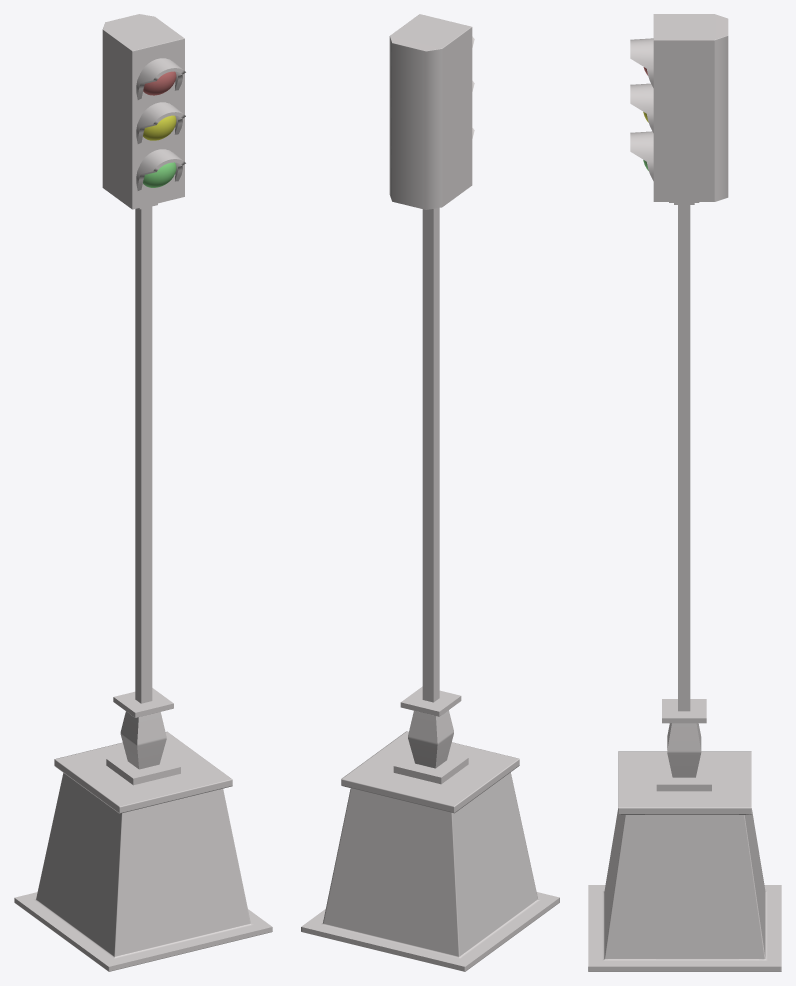
Rendered from trafikLambası.fbx.
3 renders of one model, left to right at view 1: azimuth 30°, elevation 25°; view 2: azimuth 150°, elevation 25°; view 3: azimuth 270°, elevation 25°, orthographic. The views are drawn at different scales.
Parts seen in each view (by area): view 1: trafikLambası_root1_pCube1; view 2: trafikLambası_root1_pCube1; view 3: trafikLambası_root1_pCube1.
Boxes of the visible parts, box(x1,y1,x2,y2) form: trafikLambası_root1_pCube1: box(14, 14, 272, 971); trafikLambası_root1_pCube1: box(301, 14, 559, 971); trafikLambası_root1_pCube1: box(588, 14, 781, 971).
Bounding box in the file's own units: 3.6 × 18.59 × 3.6.
